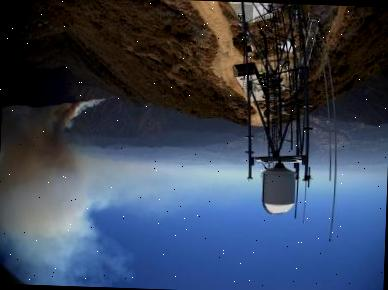smoke: (0, 94, 112, 267)
